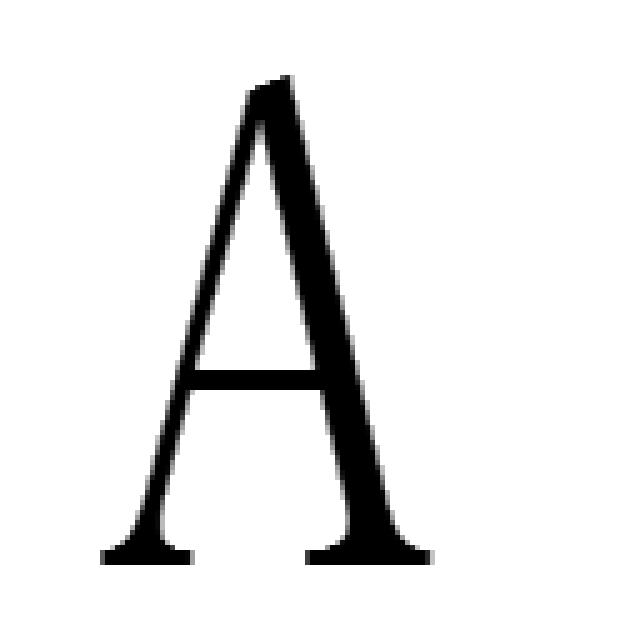A: (90, 65, 440, 575)
